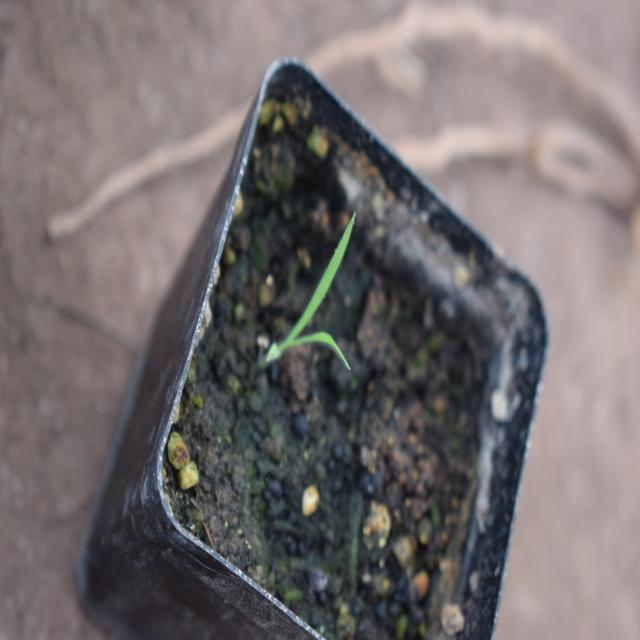crabgrass: (273, 208, 370, 401)
